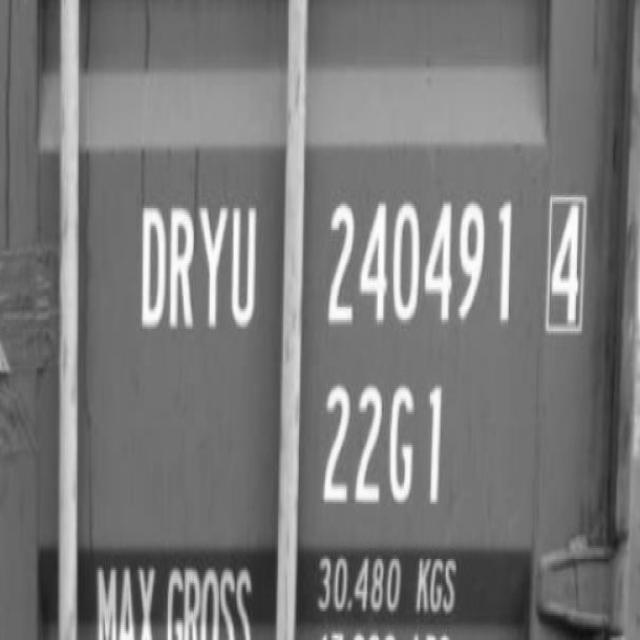dv: (536, 177, 590, 341)
owner: (133, 189, 265, 340)
serial: (322, 171, 514, 346)
size: (315, 373, 458, 519)
